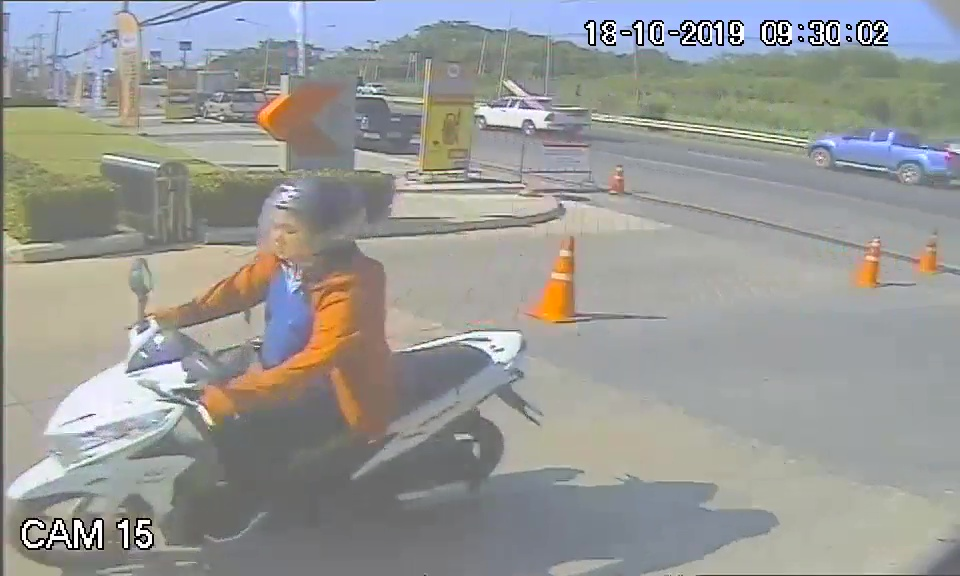motorcycle: (9, 308, 545, 564)
